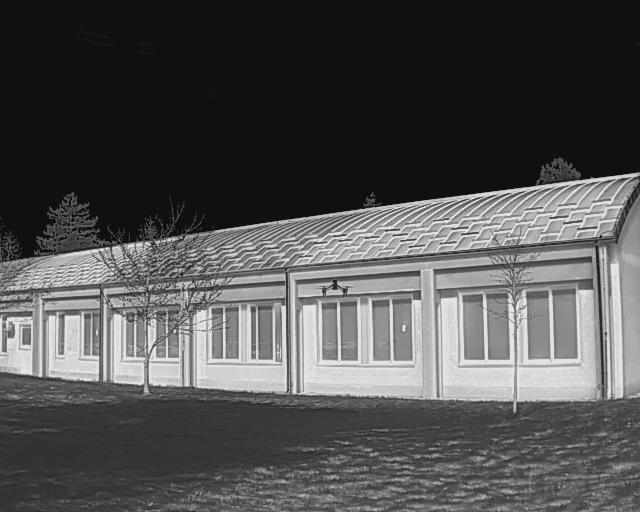drone: (314, 272, 359, 306)
